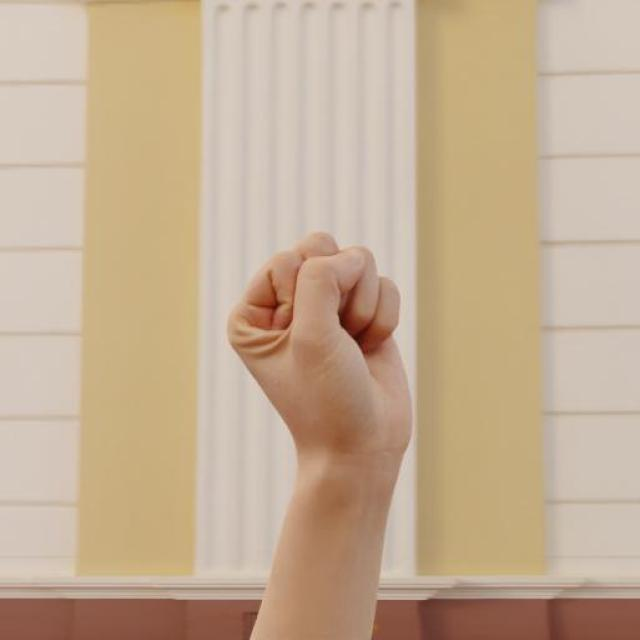S: (220, 226, 420, 464)
